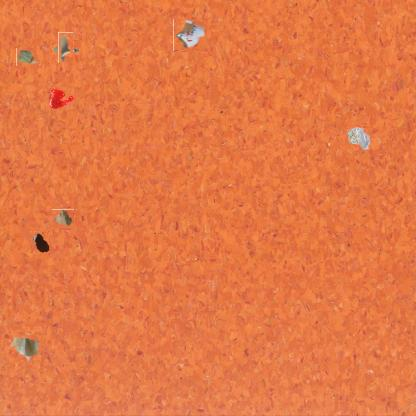dirty: (173, 19, 206, 52), (10, 334, 40, 364), (345, 125, 371, 151), (54, 36, 77, 59), (53, 209, 74, 229), (16, 48, 39, 66)
liquid: (46, 86, 74, 110), (30, 231, 50, 253)
